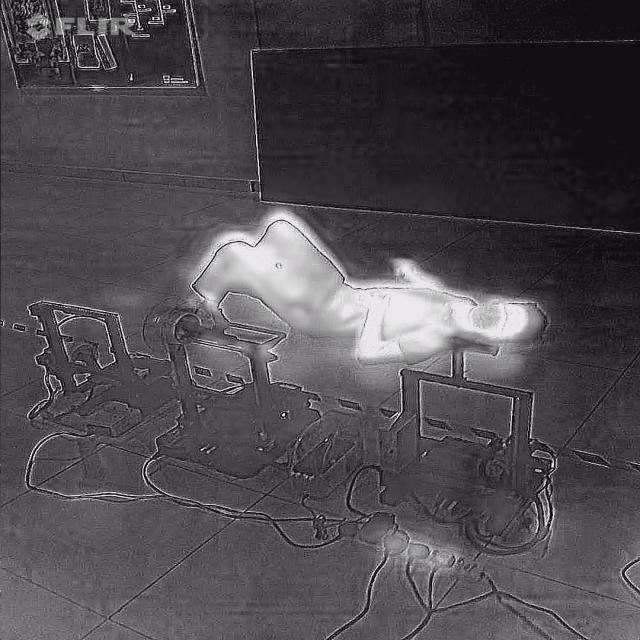Victim: (170, 206, 559, 367)
